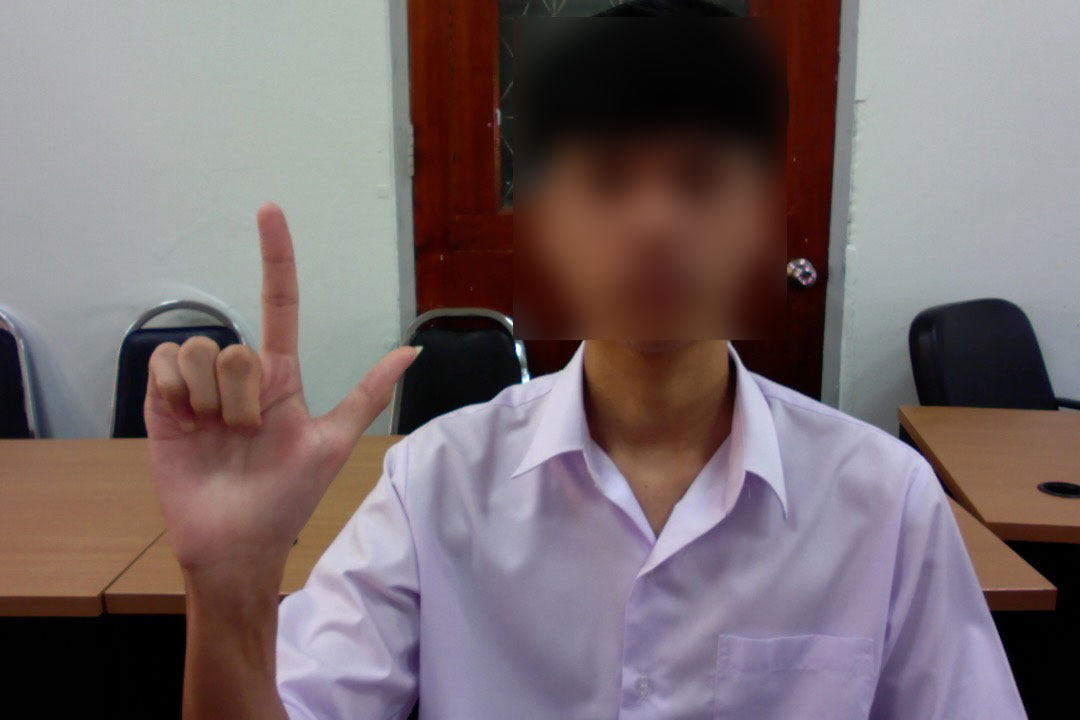lor: (119, 186, 438, 616)
